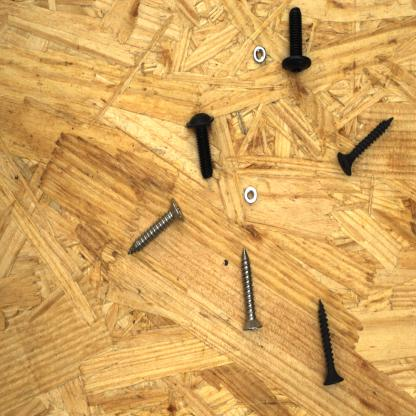screw: (125, 194, 188, 258), (335, 115, 396, 178), (314, 296, 347, 390), (180, 109, 218, 183), (280, 5, 316, 78), (237, 244, 265, 335)
